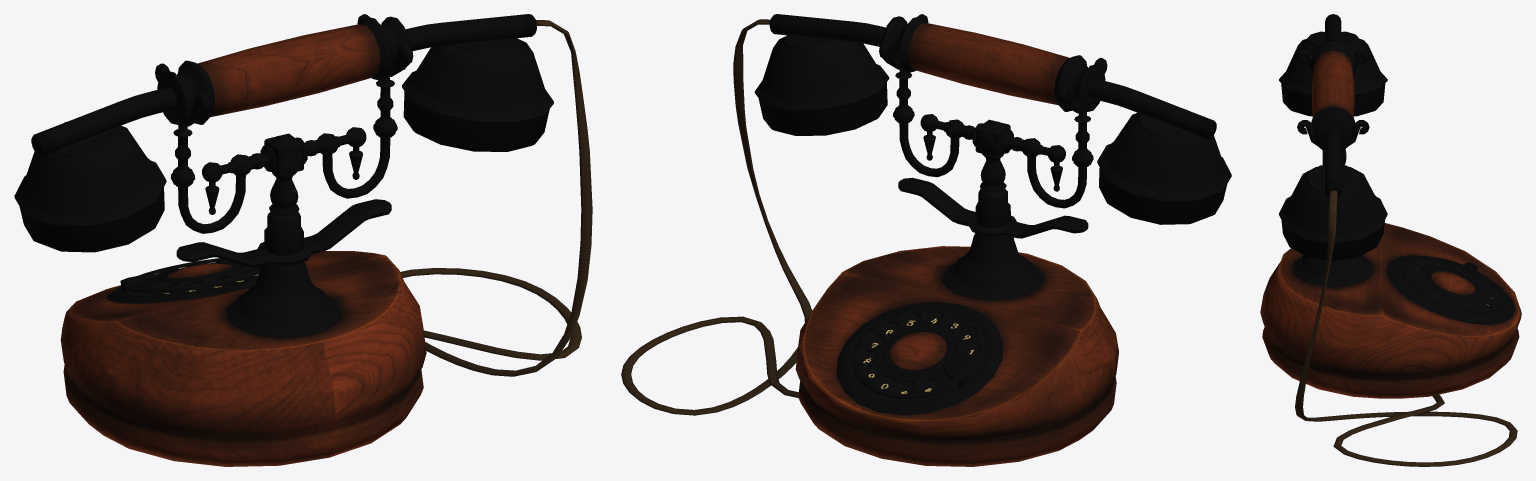
Rendered from Telephone.gltf.
3 renders of one model, left to right at view 1: azimuth 30°, elevation 25°; view 2: azimuth 150°, elevation 25°; view 3: azimuth 270°, elevation 25°, orthographic. The views are drawn at different scales.
Parts seen in each view (by area): view 1: Telephone; view 2: Telephone; view 3: Telephone.
Boxes of the visible parts, <box> form: Telephone: <box>14,14,592,466</box>; Telephone: <box>621,14,1231,466</box>; Telephone: <box>1260,14,1521,466</box>.
Bounding box in the file's own units: 1.95 × 1.22 × 1.04.
